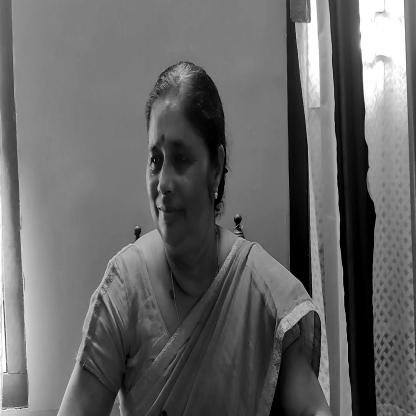Distracted: (148, 81, 224, 265)
